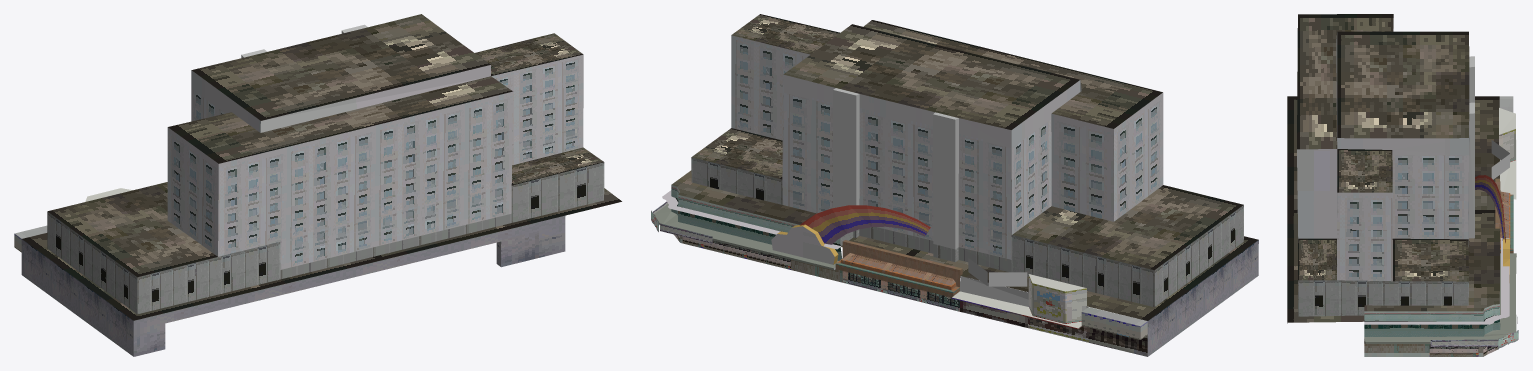
The model's file is lodinoblock2.obj.
3 views of the same model, side by side, from view 1: azimuth 30°, elevation 25°; view 2: azimuth 150°, elevation 25°; view 3: azimuth 270°, elevation 25° (orthographic). The views are drawn at different scales.
Visible parts, largest first — view 1: lodinoblock2; view 2: lodinoblock2; view 3: lodinoblock2.
Part boxes in pixels (left/top/right/bottom): lodinoblock2: left=14, top=14, right=621, bottom=356; lodinoblock2: left=651, top=14, right=1258, bottom=356; lodinoblock2: left=1287, top=14, right=1518, bottom=356.
Bounding box in the file's own units: 153 × 52.42 × 64.64.
